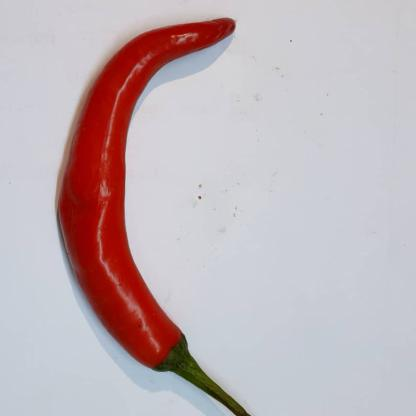chili: (50, 15, 276, 416)
